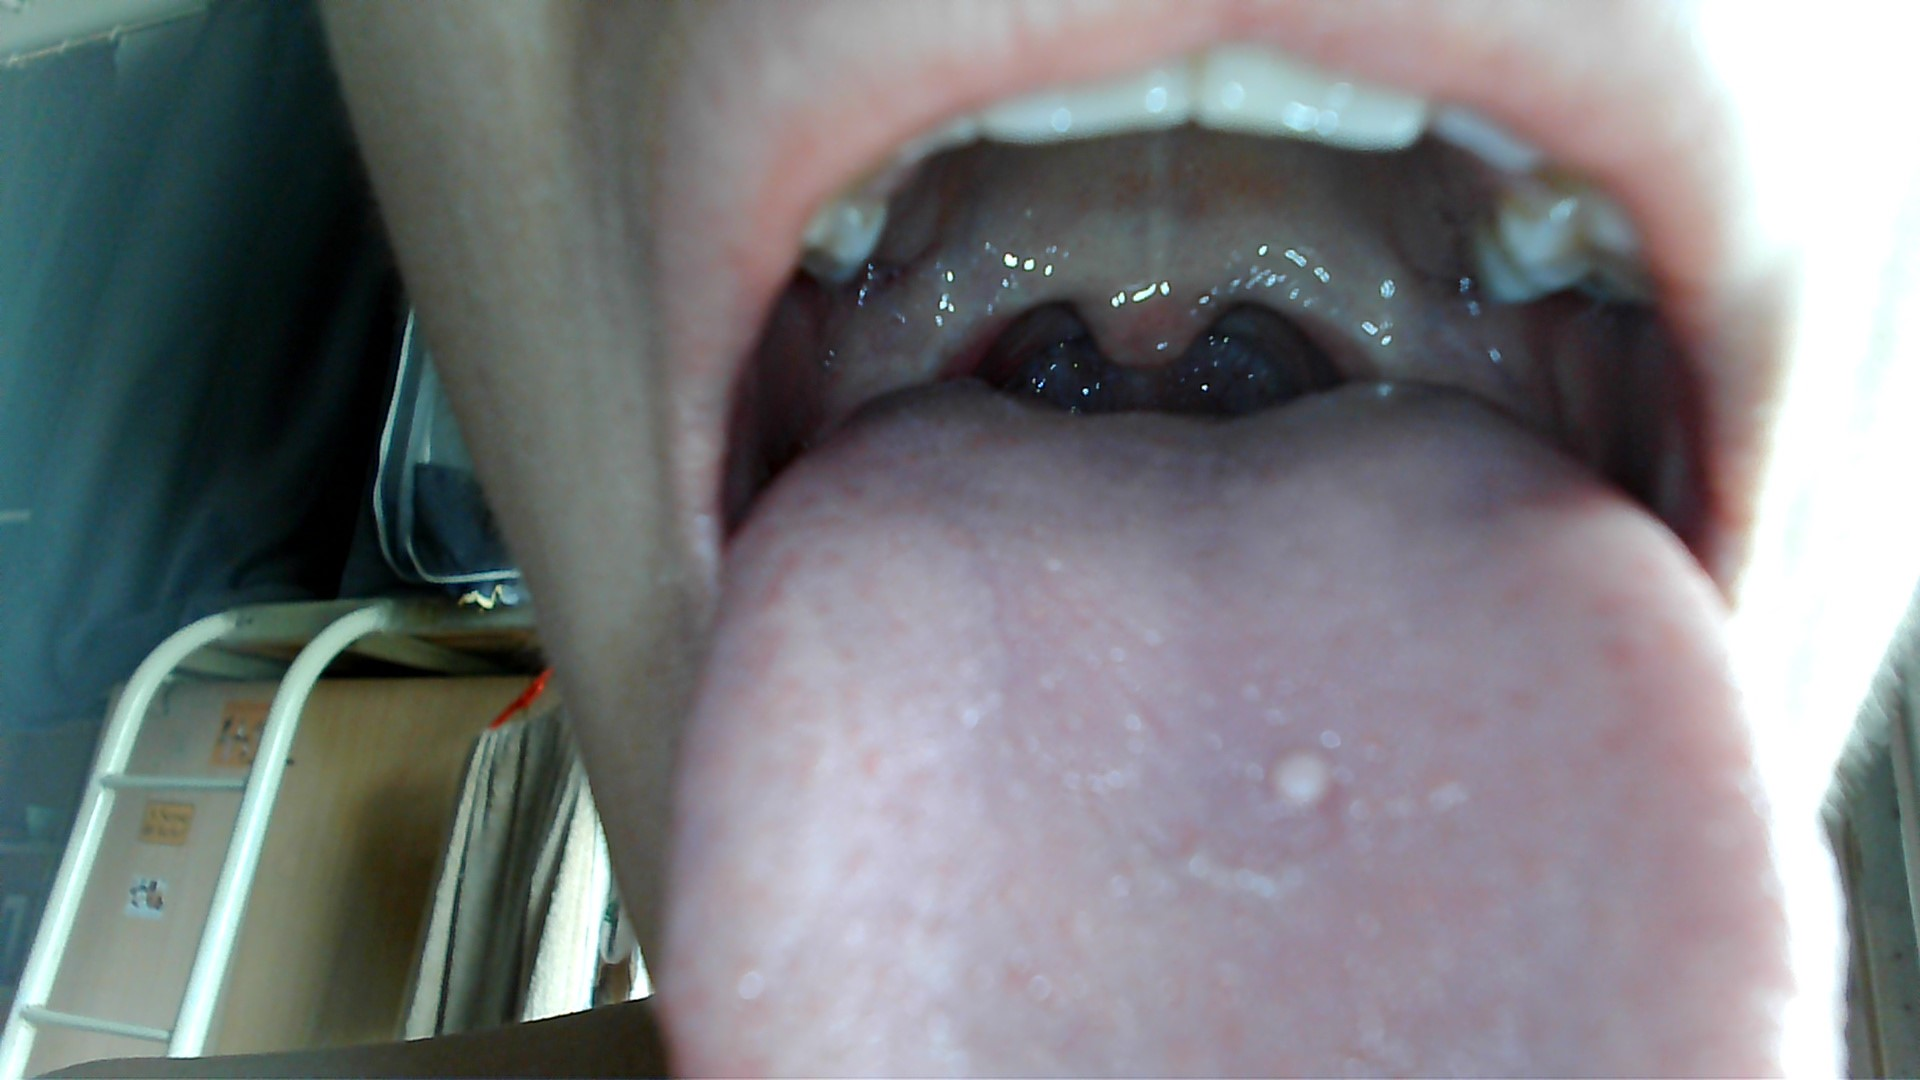throat: (1234, 291, 1402, 380), (953, 291, 1065, 380)
